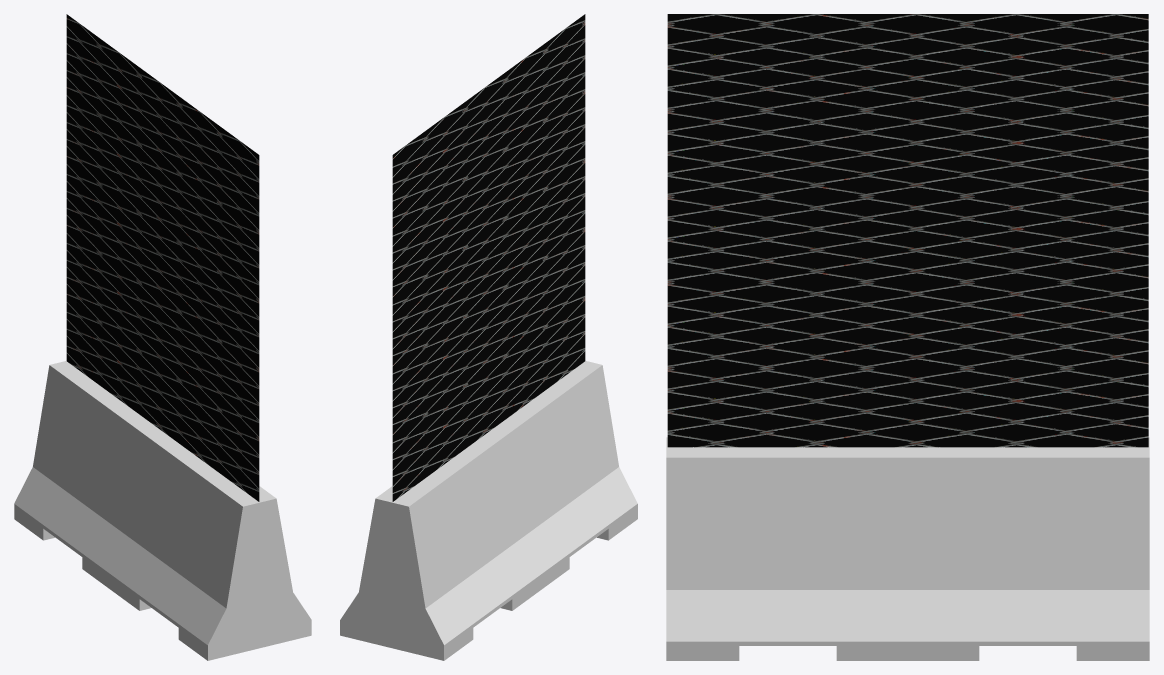
The model's file is Barrier.fbx.
The picture shows the model from 3 angles, left to right: view 1: azimuth 30°, elevation 25°; view 2: azimuth 150°, elevation 25°; view 3: azimuth 270°, elevation 25°; orthographic projection. The views are drawn at different scales.
Visible parts, largest first — view 1: barrier.001; view 2: barrier.001; view 3: barrier.001.
Boxes of the visible parts, <box> form: barrier.001: <box>14,14,311,660</box>; barrier.001: <box>340,14,637,660</box>; barrier.001: <box>666,14,1149,660</box>.
Bounding box in the file's own units: 62 × 281 × 200.
2 materials, 1 textured.
